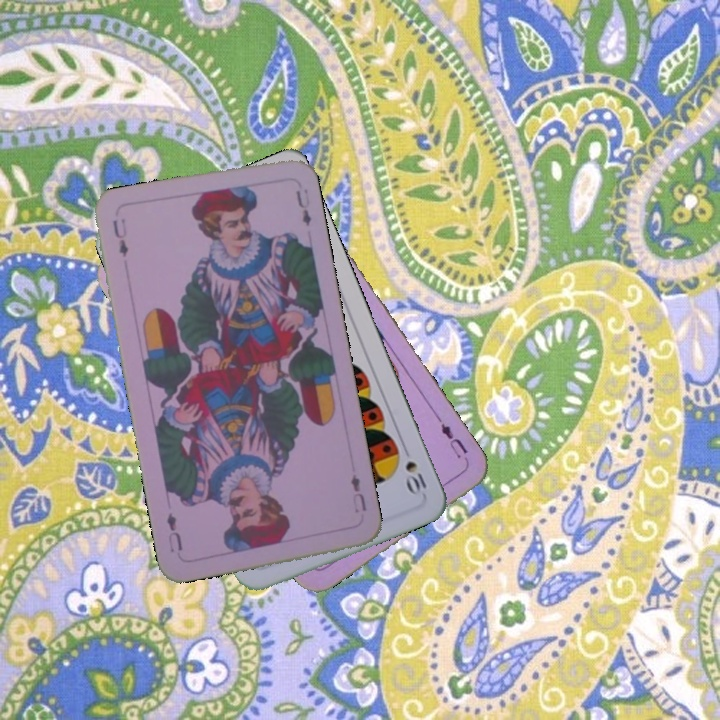EU: (433, 414, 472, 467), (346, 469, 369, 514), (109, 215, 131, 260)
S10: (398, 441, 429, 498)
